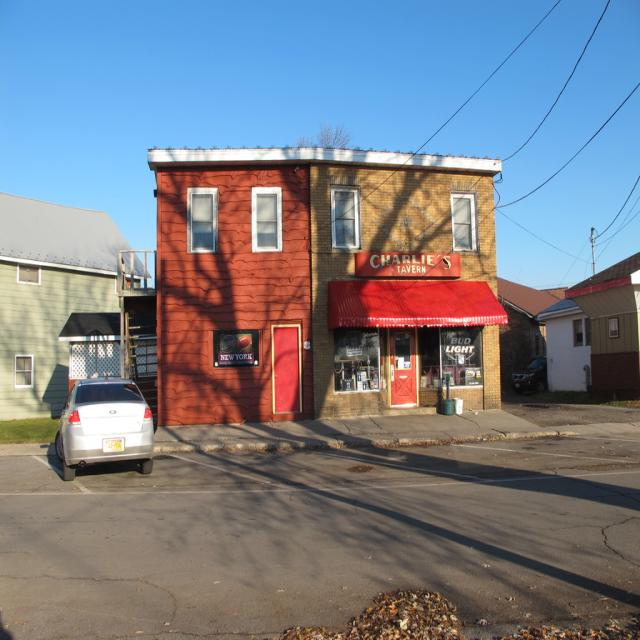car: (54, 372, 155, 485)
